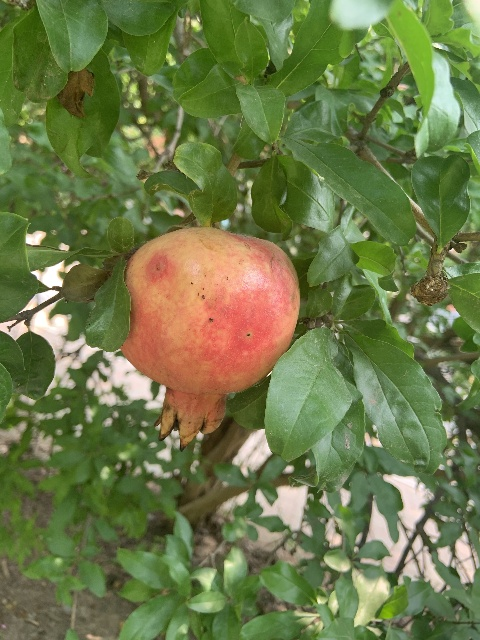ripe: (119, 226, 298, 448)
